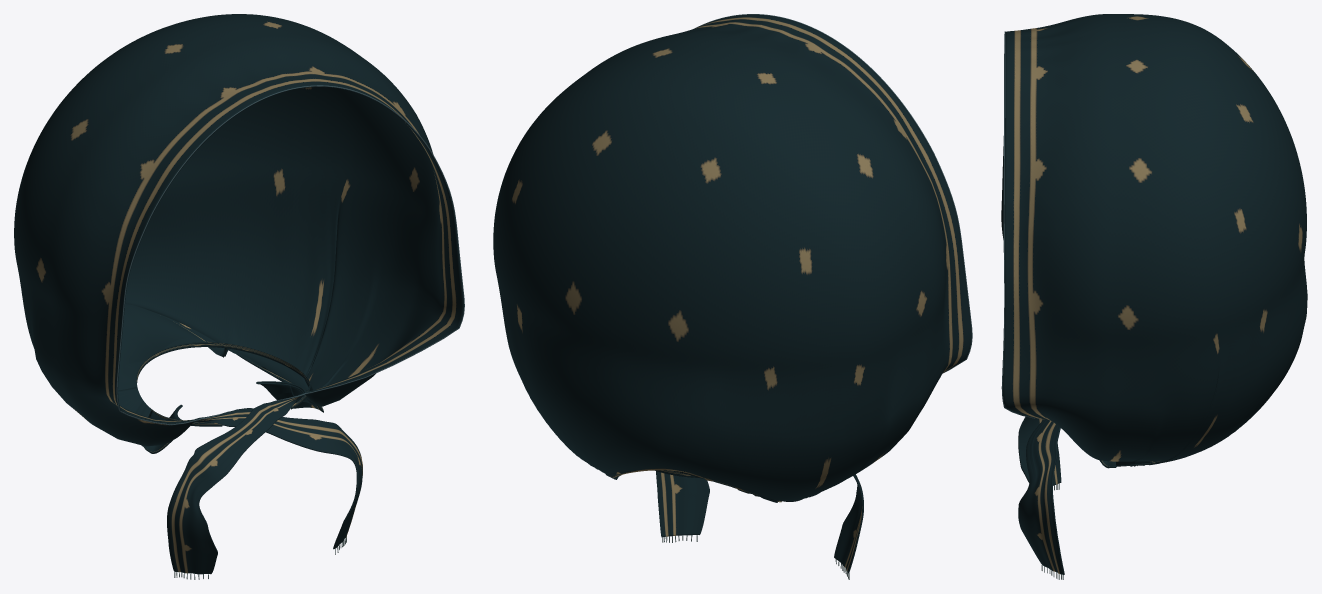
File: Feminine-ponytail-tshirt-pashmina251-headgear.glb
3 views of the same model, side by side, from view 1: azimuth 30°, elevation 25°; view 2: azimuth 150°, elevation 25°; view 3: azimuth 270°, elevation 25° (orthographic). The views are drawn at different scales.
Visible parts, largest first — view 1: 226 headgear / Headwear / continuous woven pashmina239, 226 headgear / Headwear / face edge239; view 2: 226 headgear / Headwear / continuous woven pashmina239, 226 headgear / Headwear / face edge239; view 3: 226 headgear / Headwear / continuous woven pashmina239, 226 headgear / Headwear / face edge239.
Part boxes in pixels (x1,y1,x2,y2): 226 headgear / Headwear / continuous woven pashmina239: (14,14,463,574); 226 headgear / Headwear / face edge239: (116,85,464,425); 226 headgear / Headwear / continuous woven pashmina239: (493,14,971,573); 226 headgear / Headwear / face edge239: (694,14,972,372); 226 headgear / Headwear / continuous woven pashmina239: (1001,14,1307,574); 226 headgear / Headwear / face edge239: (1001,31,1040,419).
Size of the model in its own units: 1.07 by 1.38 by 0.7569.
3 materials, 1 textured.
